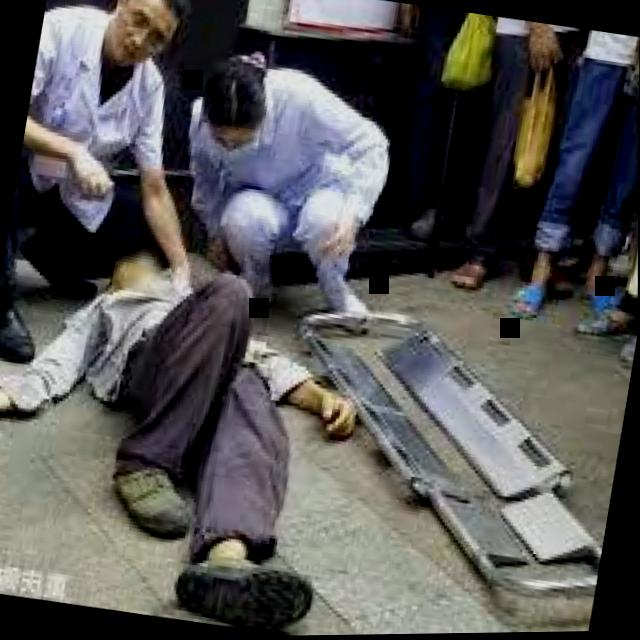Fall-Detected: (0, 188, 395, 618)
